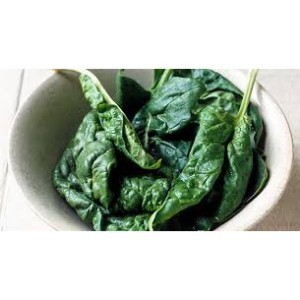spinach_brain food: (56, 78, 266, 223)
